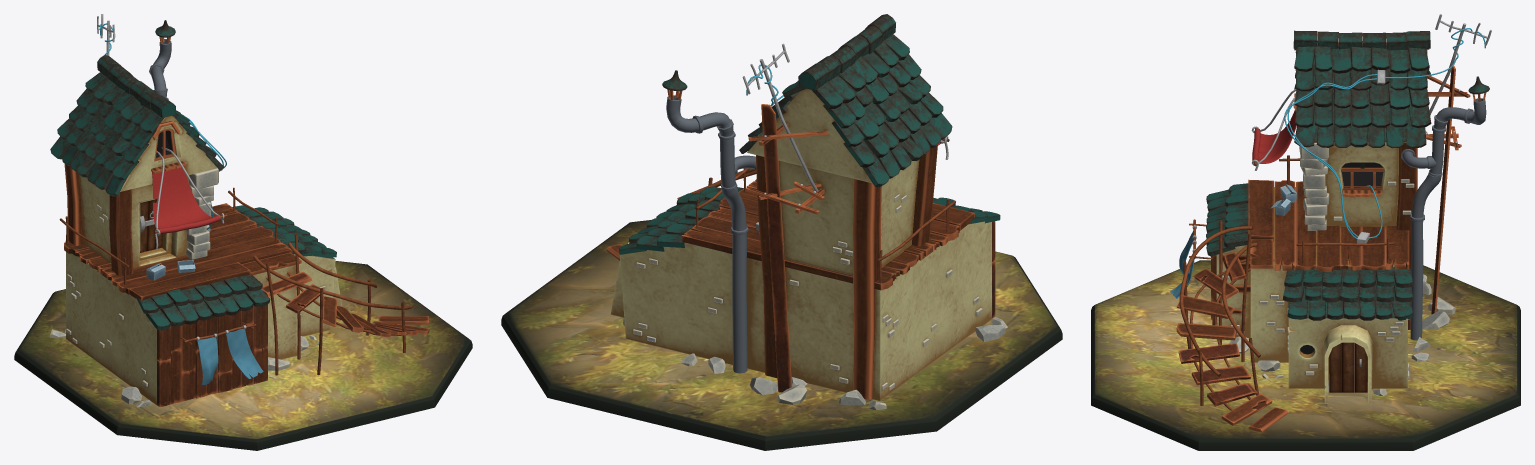
File: stylized_house.glb
3 views of the same model, side by side, from view 1: azimuth 30°, elevation 25°; view 2: azimuth 150°, elevation 25°; view 3: azimuth 270°, elevation 25° (orthographic). The views are drawn at different scales.
Parts seen in each view (by area): view 1: Object_2, Object_3; view 2: Object_2, Object_3; view 3: Object_2, Object_3.
Part boxes in pixels (box(x1,y1,x2,y2)): Object_2: box(16, 20, 471, 442); Object_3: box(14, 14, 472, 450); Object_2: box(503, 14, 1060, 440); Object_3: box(501, 23, 1062, 450); Object_2: box(1092, 30, 1519, 442); Object_3: box(1091, 14, 1520, 450).
Bounding box in the file's own units: 15.51 × 12.44 × 15.51.
1 material, 1 textured.
